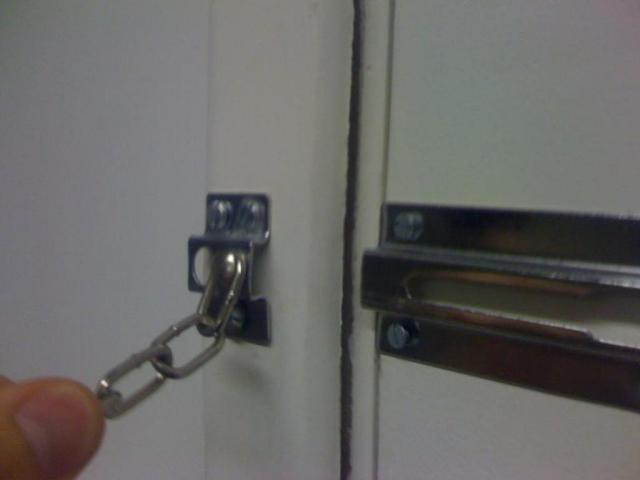Door-handle: (55, 176, 279, 432)
